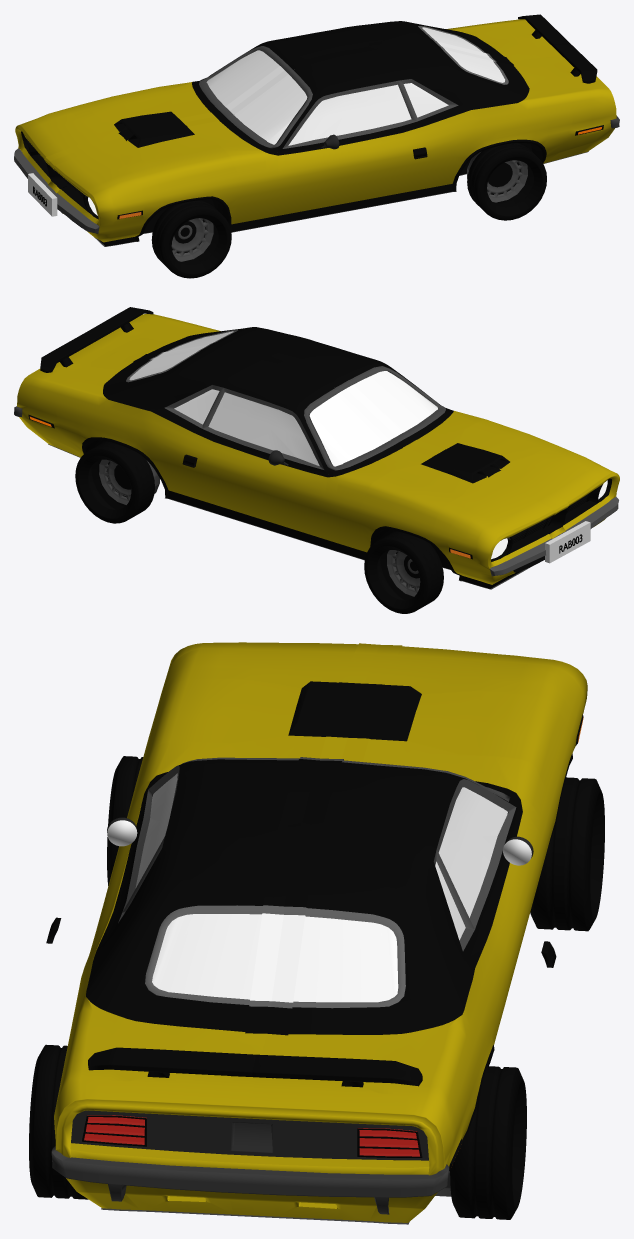
File: car_3.glb
3 renders of one model, top to bottom at view 1: azimuth 30°, elevation 25°; view 2: azimuth 150°, elevation 25°; view 3: azimuth 270°, elevation 25°, orthographic. The views are drawn at different scales.
Visible parts, largest first — view 1: Low poly plymouth car.007, RAB003; view 2: Low poly plymouth car.007, RAB003; view 3: Low poly plymouth car.007.
Part boxes in pixels (bbox=[...]): Low poly plymouth car.007: bbox=[14, 14, 619, 278]; RAB003: bbox=[28, 173, 57, 216]; Low poly plymouth car.007: bbox=[14, 307, 619, 613]; RAB003: bbox=[545, 521, 590, 563]; Low poly plymouth car.007: bbox=[29, 642, 604, 1224].
Size of the model in its own units: 2.8 by 0.7482 by 1.34.
